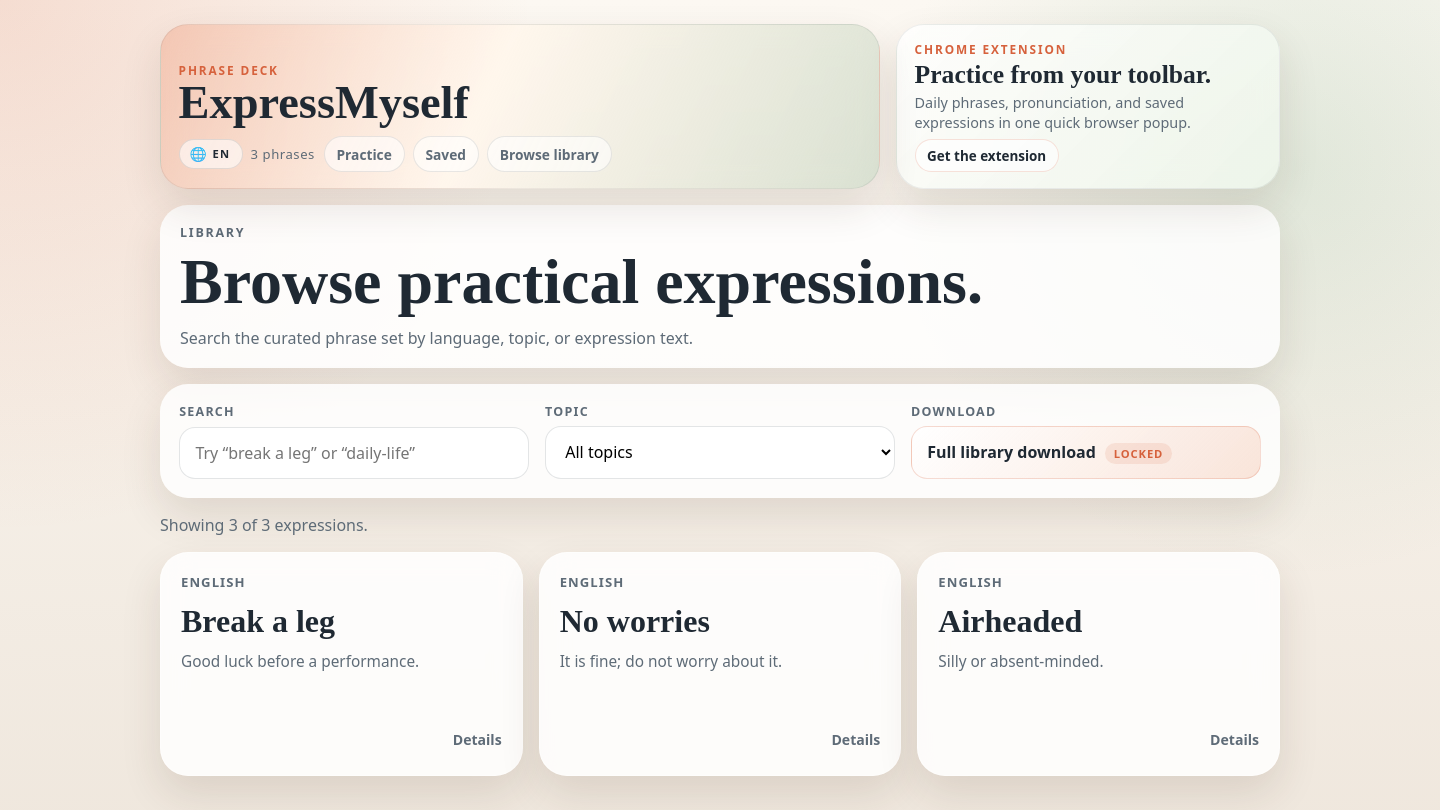
Test: LibraryExperience › filters results by topic
Select "Performance" in the dropdown labelled "Topic" at coordinates (720, 452), box [545, 426, 895, 479]
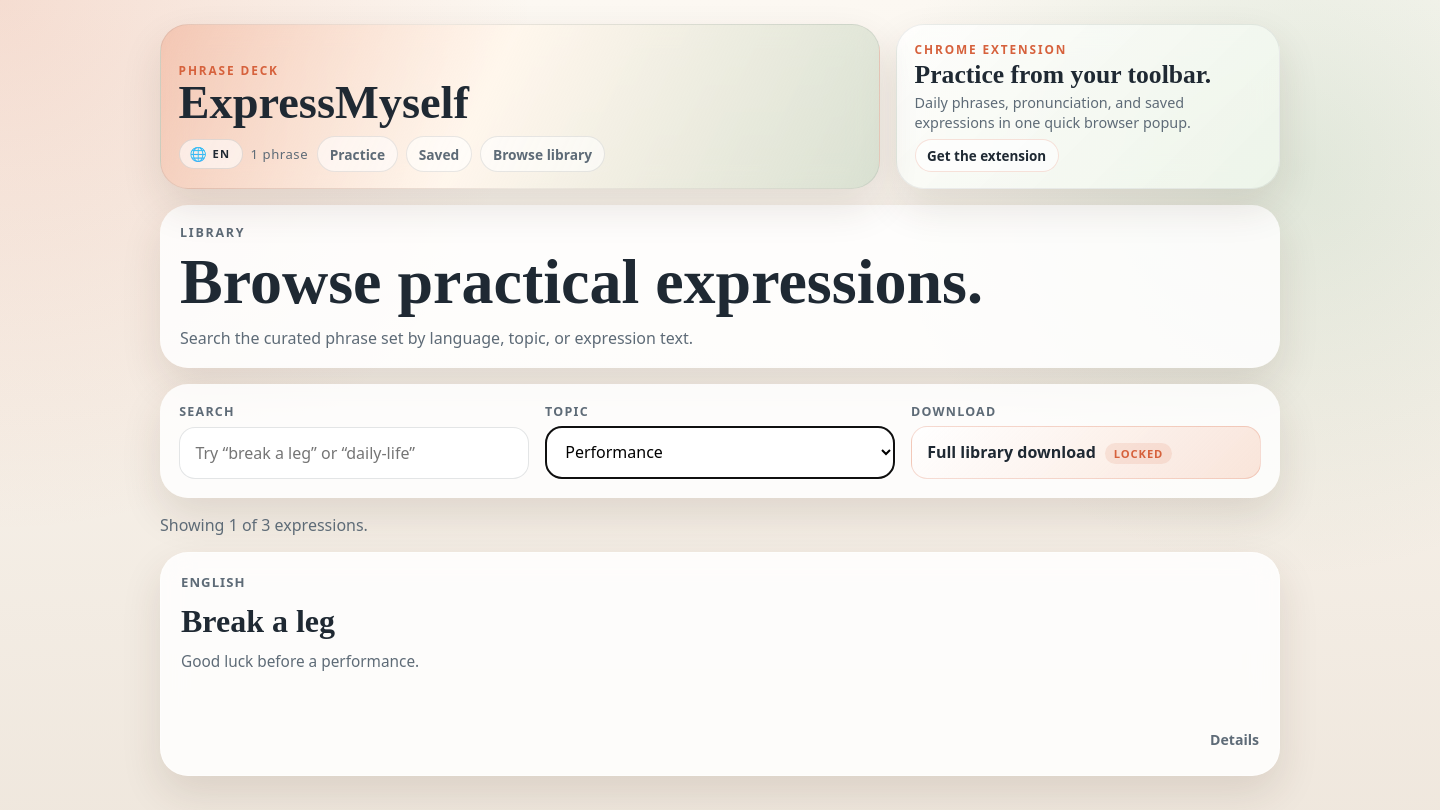
expect the heading "Break a leg" is shown: met, box [181, 603, 335, 639]
expect the heading "No worries" is gone: met
expect the heading "Airheaded" is gone: met
